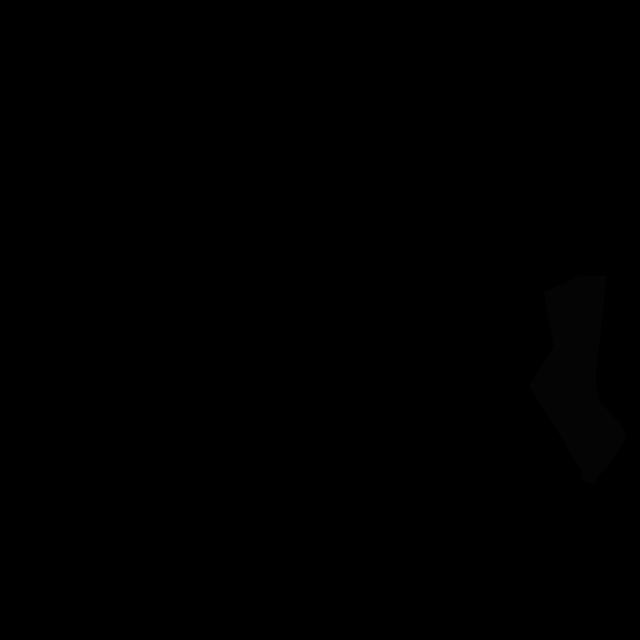soft_plastic: (529, 276, 627, 485)
